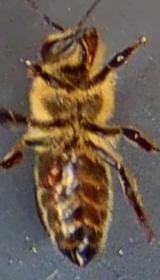varroa_mite: (33, 153, 72, 197)
